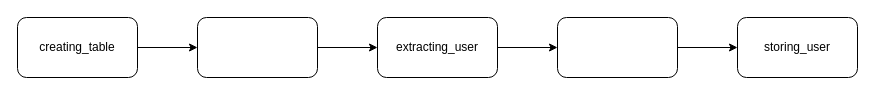
This 875x95 diagram has some shape labels left out. Each missing label, with the centre of its shape:
"is_api_available" belongs at (257,47).
"processing_user" belongs at (617,47).
